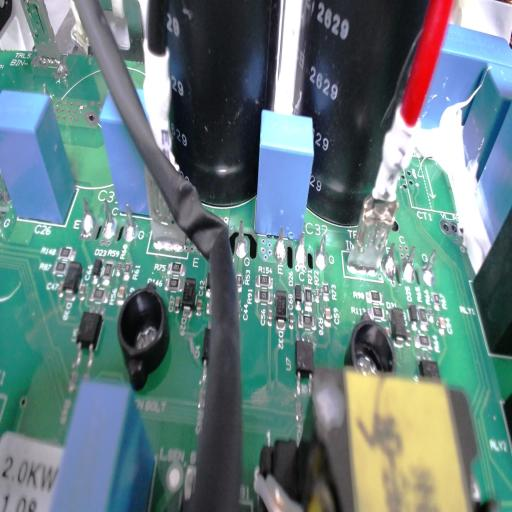pin_group: (72, 188, 140, 247), (378, 232, 440, 296), (269, 219, 329, 282), (232, 213, 251, 263)
solder_ball: (96, 194, 120, 242), (75, 192, 97, 237), (116, 200, 138, 240), (310, 234, 328, 276), (401, 242, 417, 288), (422, 249, 438, 289), (294, 227, 308, 272), (383, 237, 397, 281), (271, 224, 287, 262), (234, 219, 249, 257)
